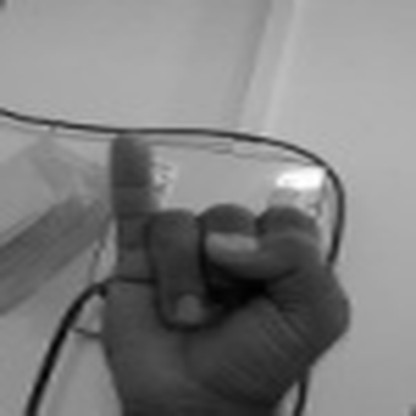i: (100, 112, 375, 414)
